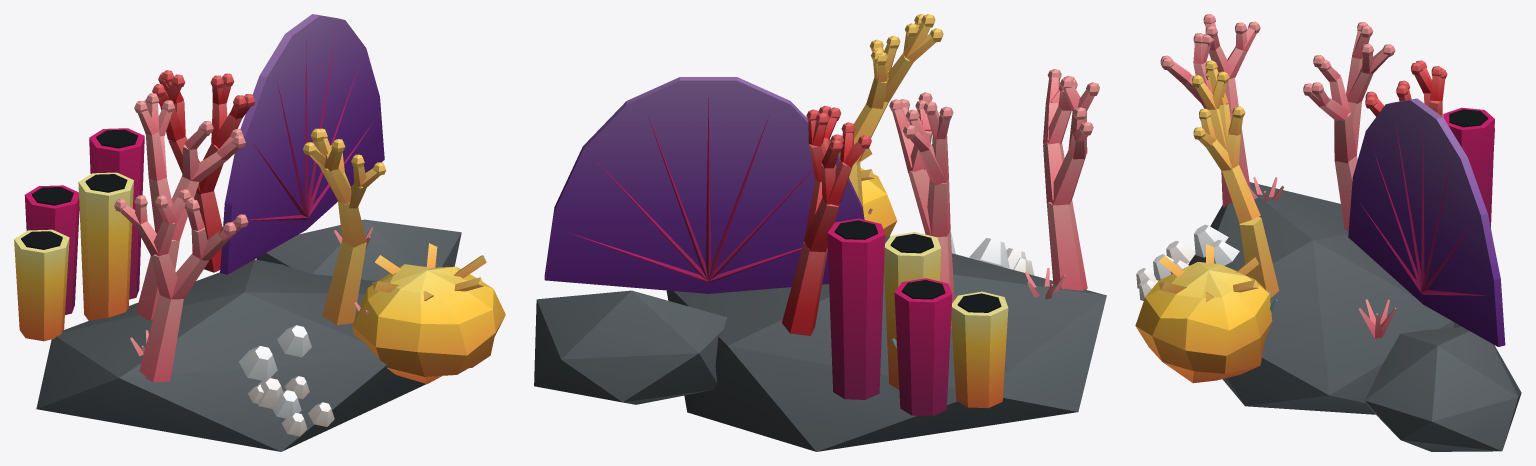
The model's file is coral_growth.glb.
The picture shows the model from 3 angles, left to right: view 1: azimuth 30°, elevation 25°; view 2: azimuth 150°, elevation 25°; view 3: azimuth 270°, elevation 25°; orthographic projection. The views are drawn at different scales.
Parts seen in each view (by area): view 1: coral_growth; view 2: coral_growth; view 3: coral_growth.
Part boxes in pixels (x1,y1,x2,y2): coral_growth: (14,14,505,451); coral_growth: (534,14,1106,451); coral_growth: (1135,14,1521,451).
Size of the model in its own units: 1.91 by 1.27 by 1.42.
1 material, 1 textured.
